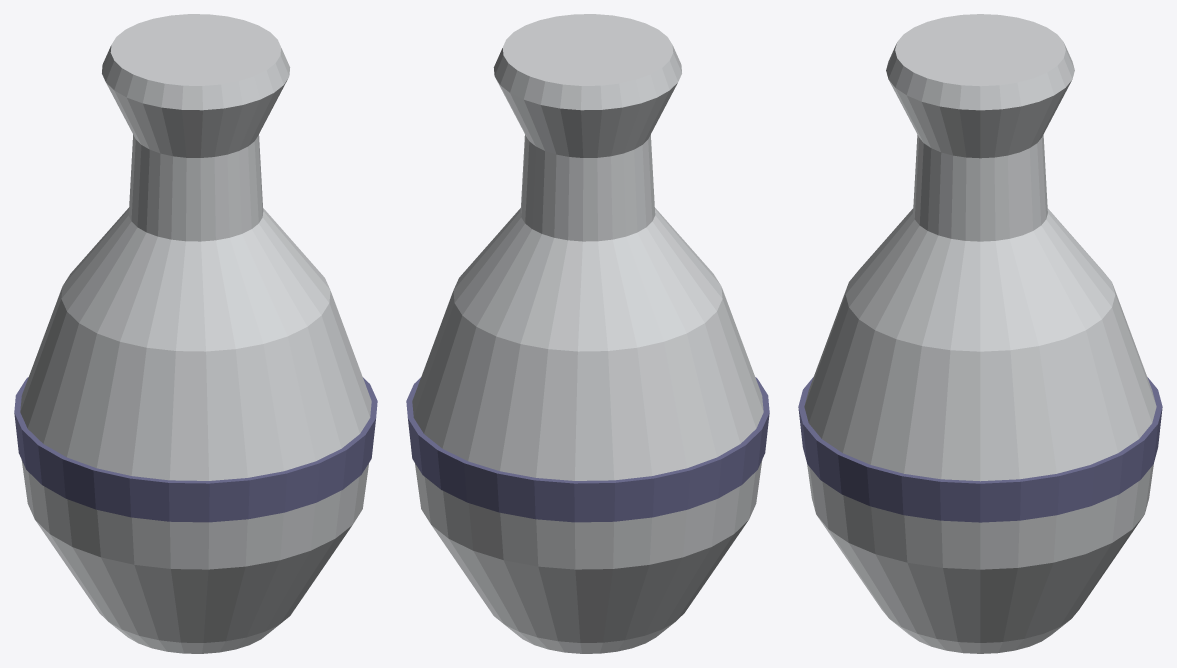
File: Vase.glb
3 views of the same model, side by side, from view 1: azimuth 30°, elevation 25°; view 2: azimuth 150°, elevation 25°; view 3: azimuth 270°, elevation 25° (orthographic).
Parts seen in each view (by area): view 1: Vase_Porcelain, Vase_BookBlue; view 2: Vase_Porcelain, Vase_BookBlue; view 3: Vase_Porcelain, Vase_BookBlue.
Part boxes in pixels (x1=…): Vase_Porcelain: x1=20, y1=14, x2=371, y2=653; Vase_BookBlue: x1=14, y1=377, x2=377, y2=522; Vase_Porcelain: x1=412, y1=14, x2=763, y2=653; Vase_BookBlue: x1=406, y1=377, x2=769, y2=522; Vase_Porcelain: x1=804, y1=14, x2=1156, y2=653; Vase_BookBlue: x1=798, y1=377, x2=1162, y2=522.
Size of the model in its own units: 1.62 by 2.8 by 1.62.
